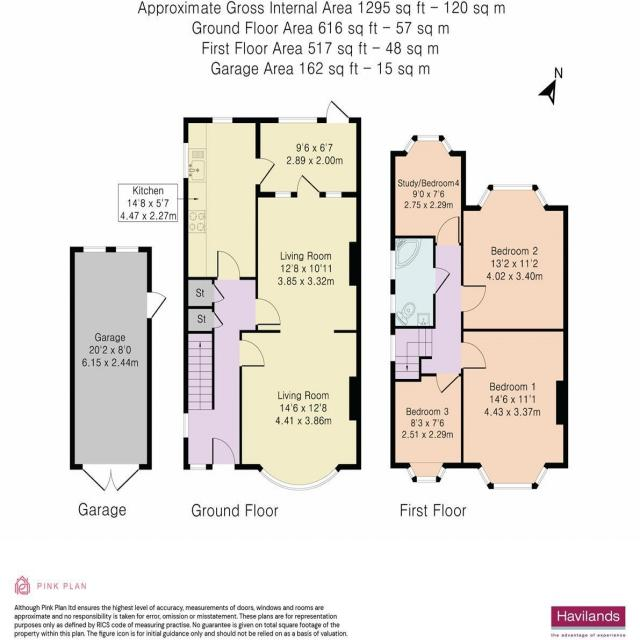DOOR: (211, 435, 237, 471), (323, 95, 353, 125), (254, 296, 282, 328), (460, 340, 487, 371), (436, 214, 461, 247), (239, 338, 266, 368), (460, 284, 487, 314), (217, 250, 241, 281), (255, 157, 276, 186), (296, 173, 320, 198), (432, 266, 451, 297), (435, 372, 460, 395)
ROOM: (239, 168, 363, 495), (460, 327, 569, 490), (460, 183, 569, 332), (255, 98, 362, 198), (390, 134, 467, 246), (390, 372, 464, 483)
WINDOW: (259, 466, 339, 492), (276, 116, 319, 125), (477, 186, 492, 210), (477, 464, 492, 487), (534, 464, 548, 487), (493, 482, 533, 490), (534, 187, 548, 209), (389, 247, 397, 283), (492, 184, 533, 191), (182, 141, 189, 180), (440, 137, 453, 155), (403, 137, 416, 155), (390, 333, 397, 365), (389, 291, 397, 316), (212, 116, 233, 125), (417, 134, 440, 142), (406, 465, 417, 481), (436, 464, 447, 480), (416, 475, 437, 483), (183, 412, 189, 438), (274, 191, 292, 199), (189, 463, 207, 470), (325, 191, 342, 198)
